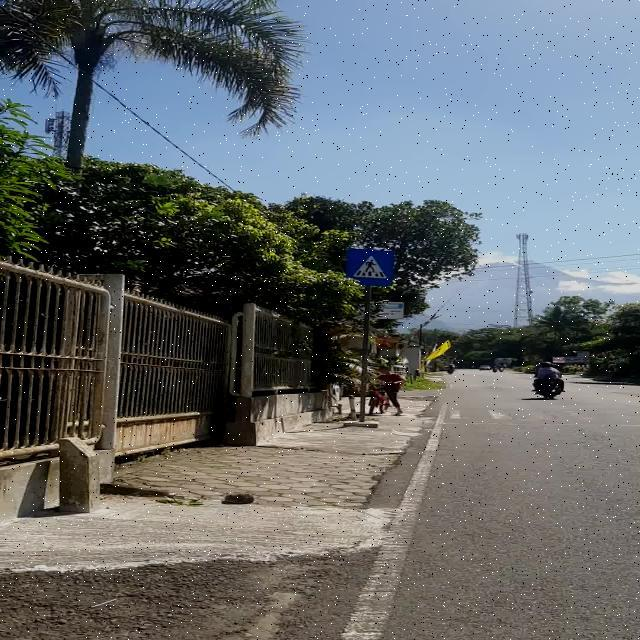Perintah Jalur Penyebrangan: (345, 248, 395, 286)
